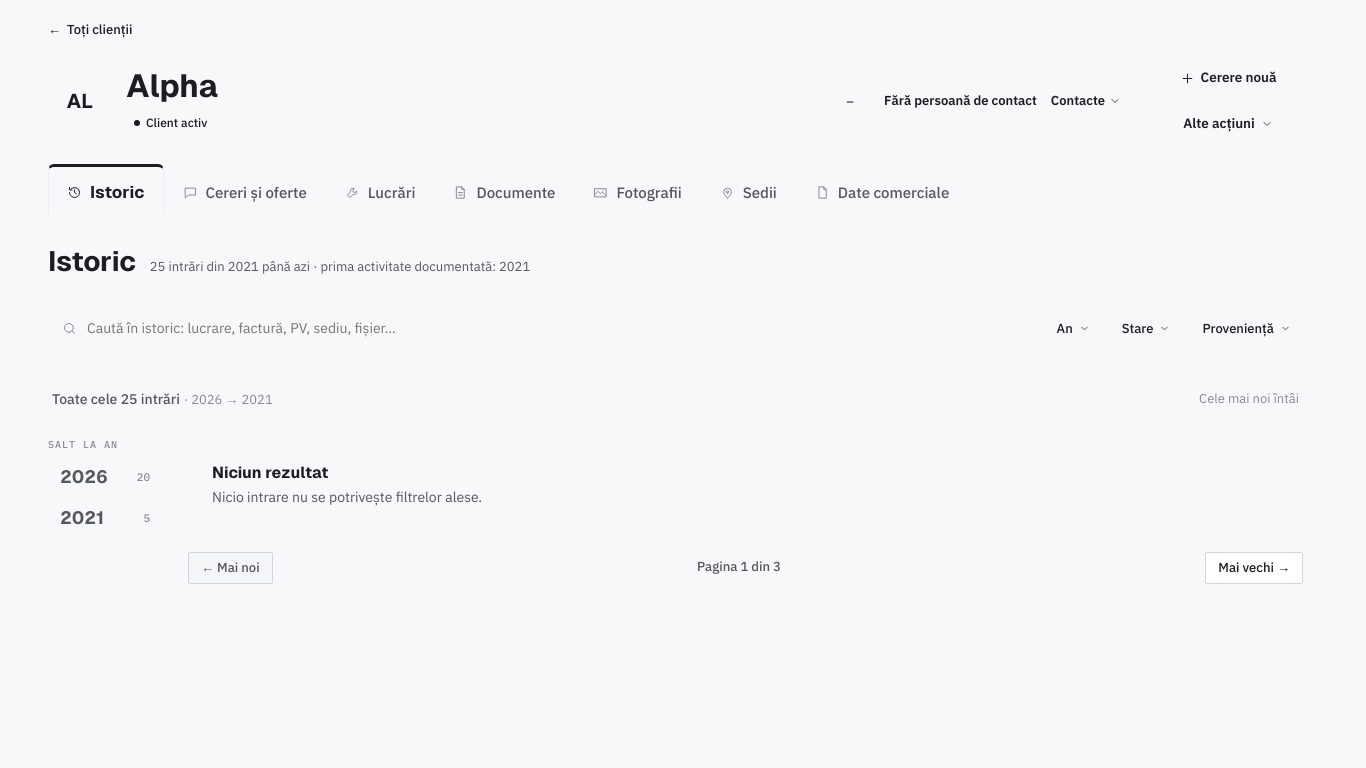
Test case: Istoric search context › survives a change of section: search 2021, open Documente, come back to Istoric
The width and height of the screenshot is (1366, 768).
In the search field labelled "Caută în istoric": (555, 328) [85,307,1025,349], type "2021"
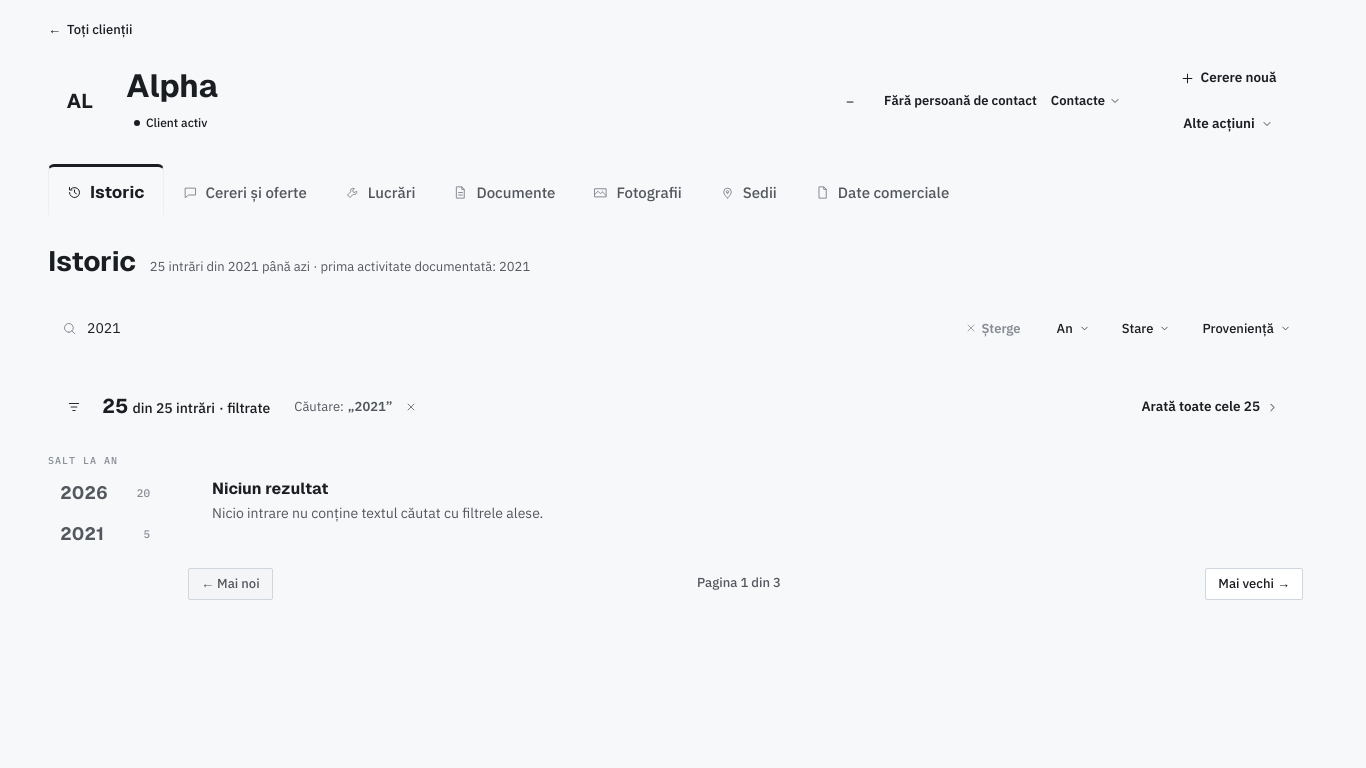
Click the link "Documente": (504, 192) [453,182,555,202]
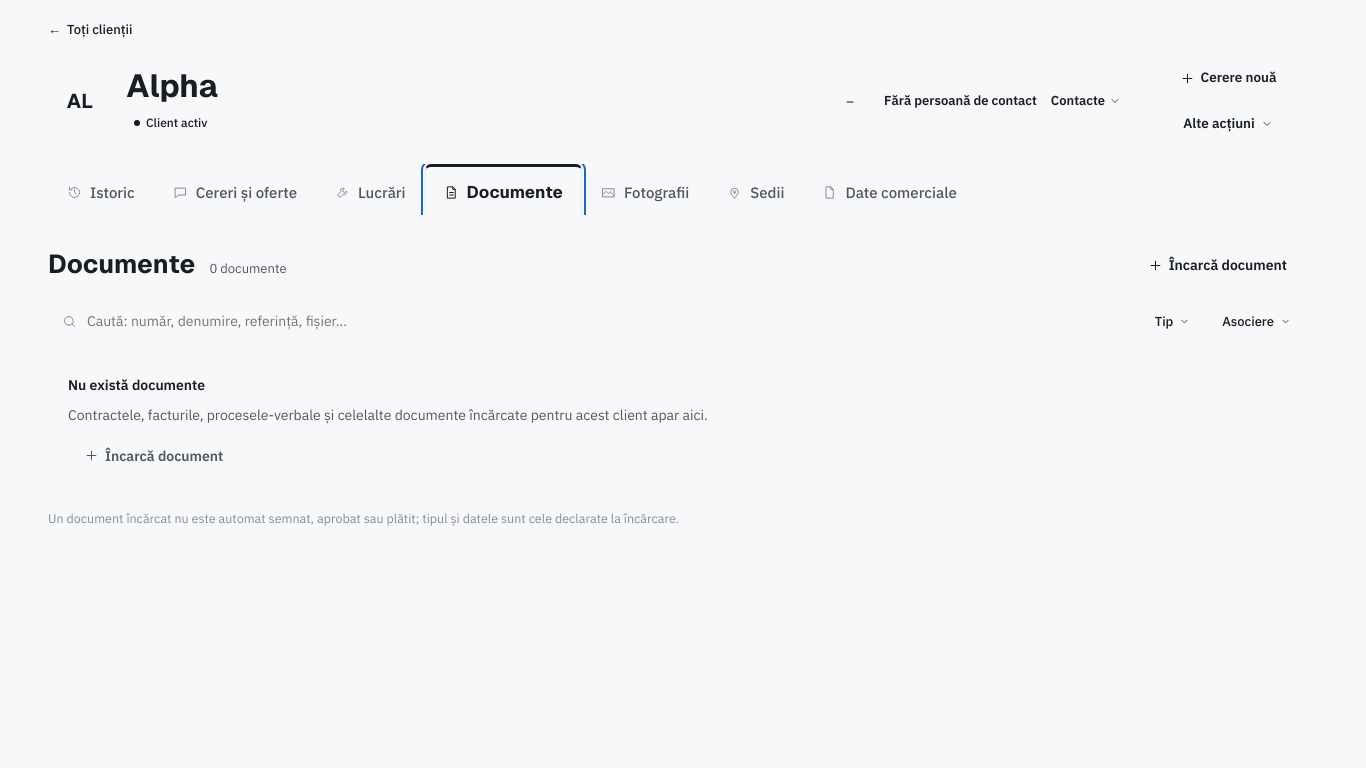
Click the link "Istoric": (101, 192) [67,182,135,202]
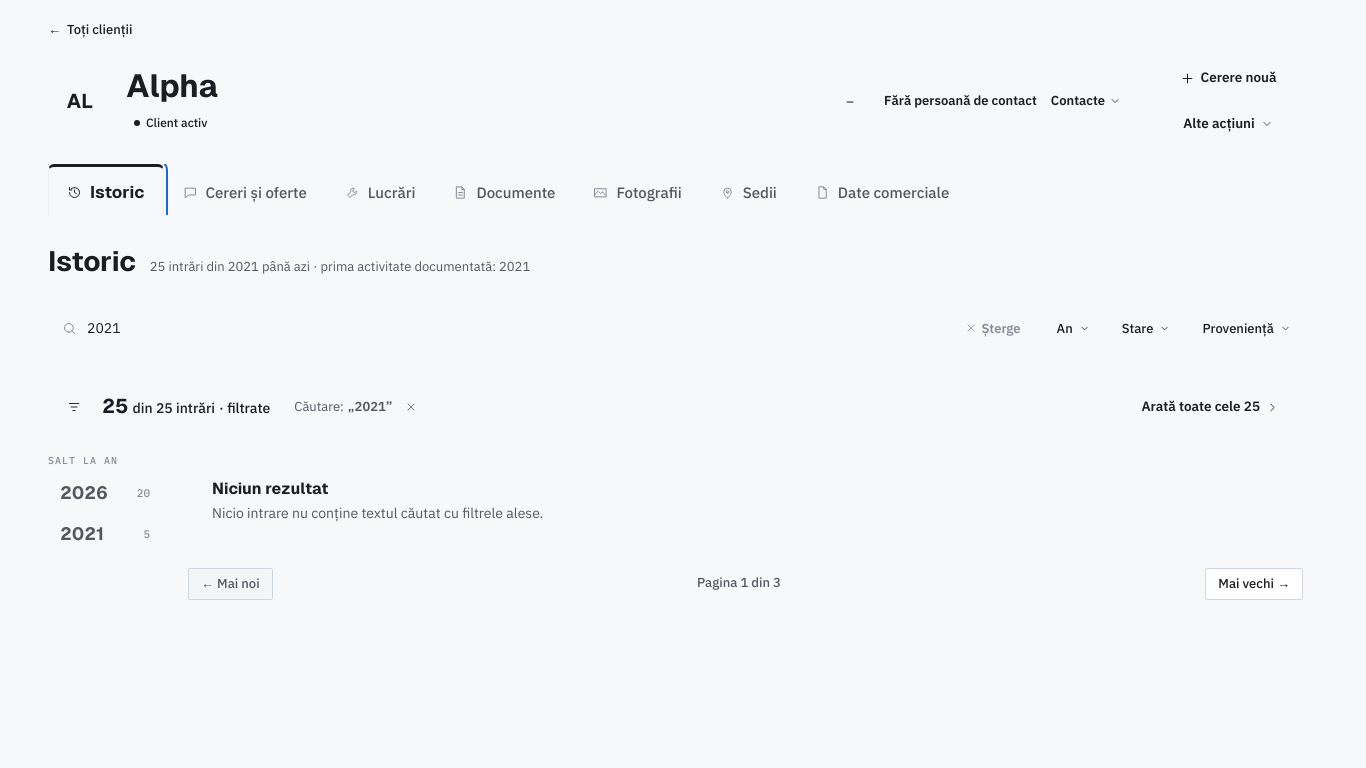
Now the search field named "Caută în istoric" holds "2021", box [85,307,953,349]
